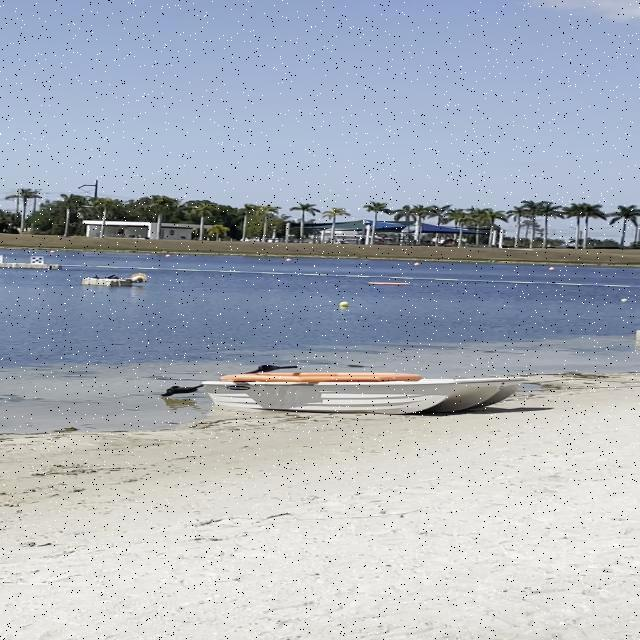buoy: (81, 270, 147, 287)
